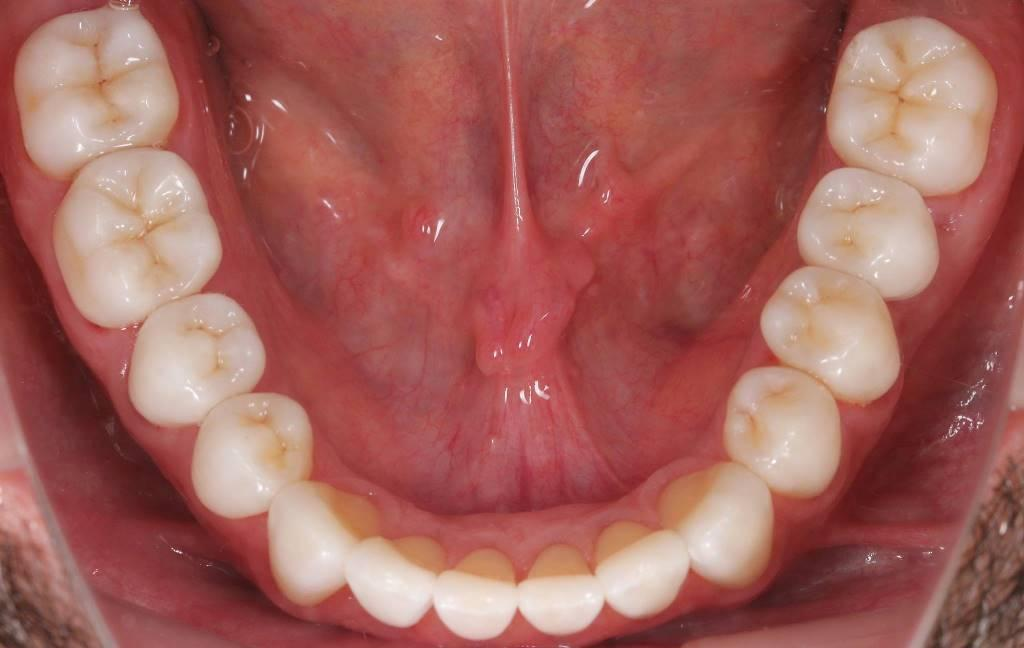LL1BC_healthy: (729, 367, 841, 498)
LL1M_healthy: (809, 168, 936, 295)
LL2BC_healthy: (769, 270, 901, 403)
LL2M_healthy: (839, 27, 990, 178)
LLCI_healthy: (517, 543, 601, 630)
LLC_healthy: (676, 461, 777, 584)
LLLI_healthy: (589, 525, 688, 623)
LR1BC_healthy: (199, 395, 312, 509)
LR1M_healthy: (61, 151, 219, 310)
LR2BC_healthy: (133, 300, 264, 419)
LR2M_healthy: (19, 10, 177, 153)
LRCI_healthy: (439, 549, 514, 641)
LRC_healthy: (266, 483, 367, 596)
LRLI_healthy: (351, 533, 440, 625)
